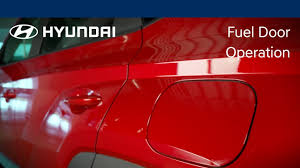closed: (143, 76, 258, 166)
